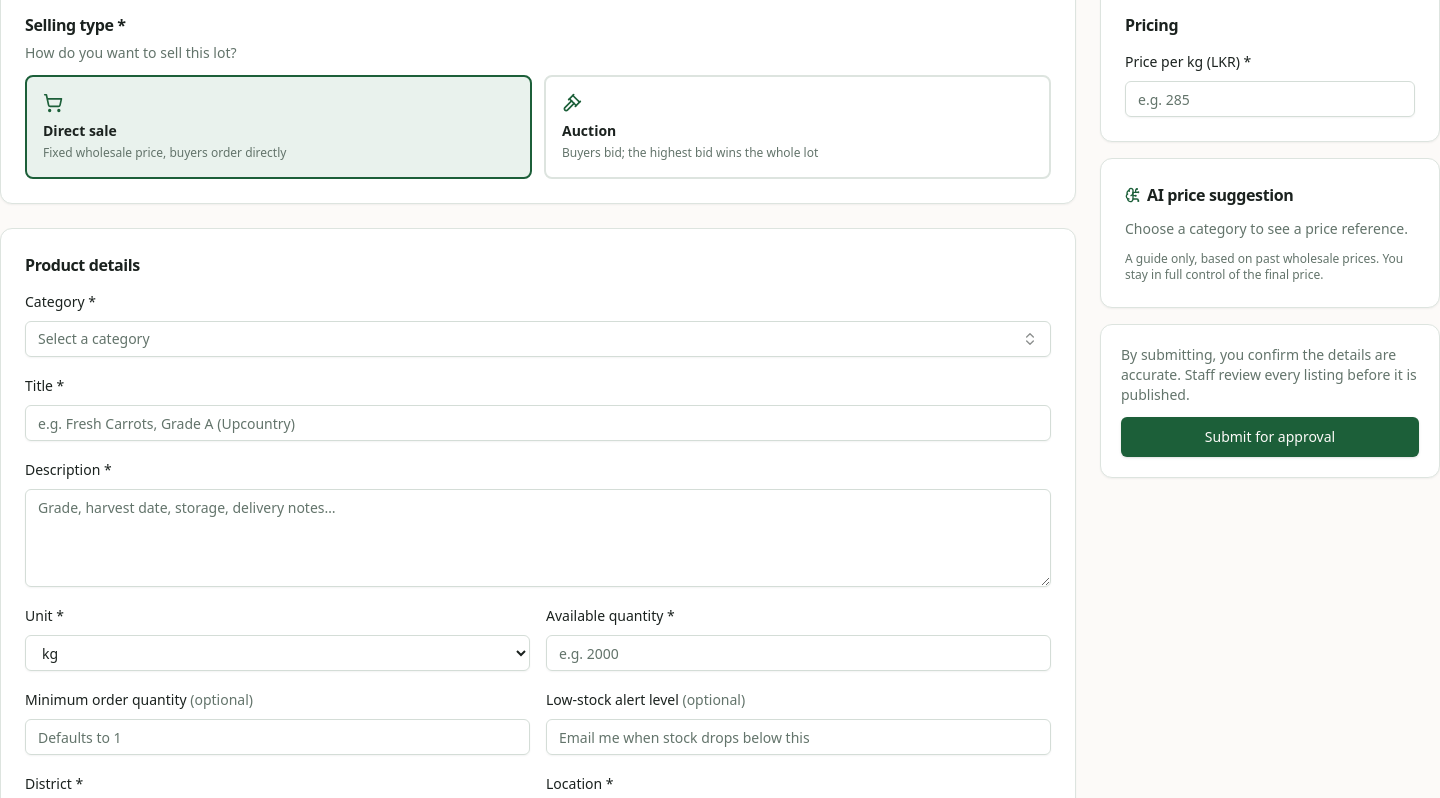
Test: ListingForm: creating › uses the suggestion as the minimum bid for an auction
What coordinates should you click on to do the following:
click the button "Auction Buyers bid; the highest bid wins the whole lot"
I would click on:
 (589, 130)
Its box is 544,75 -> 1051,179.
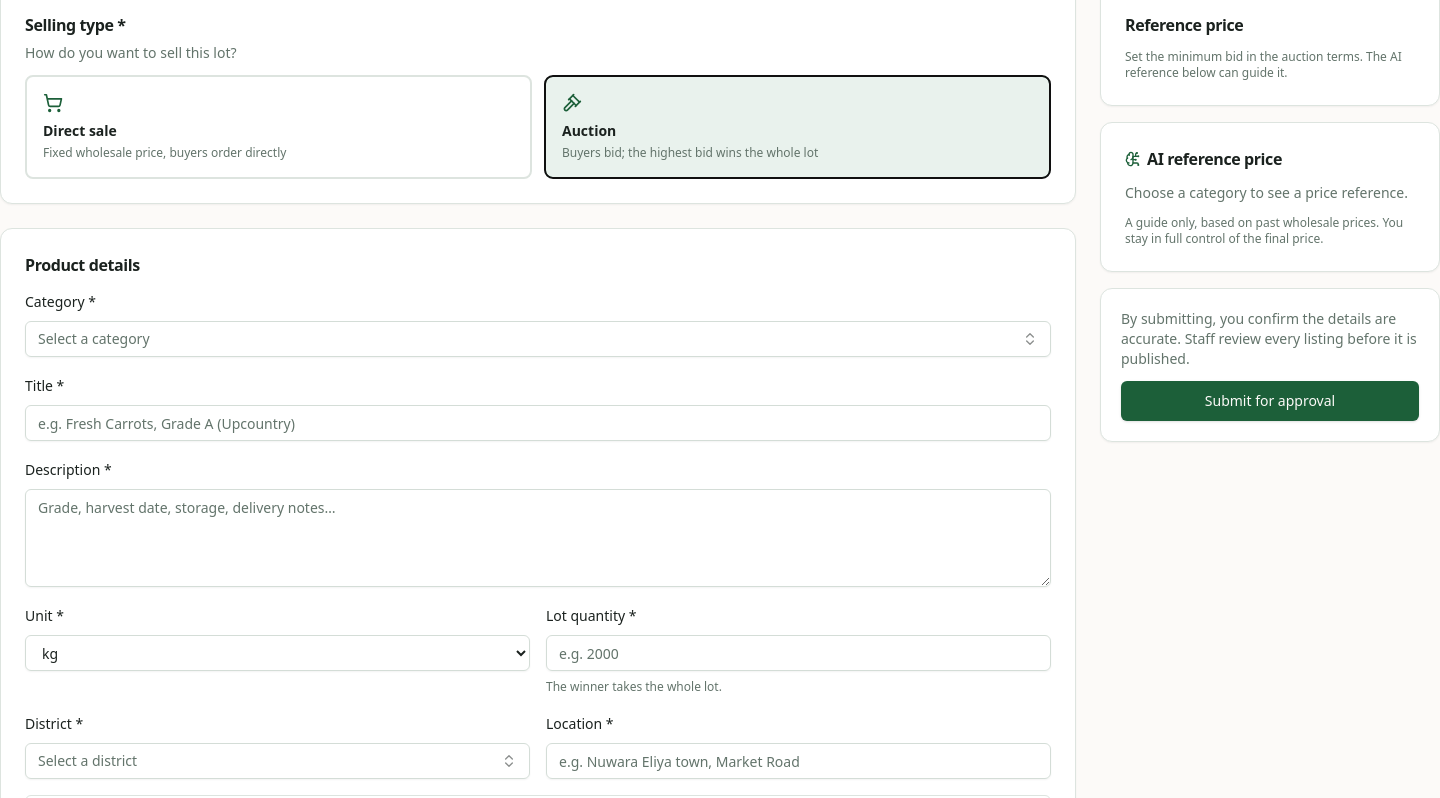
What coordinates should you click on to do the following:
click the dropdown labelled "Select a category"
I would click on:
 (94, 338)
Its box is 25,321 -> 1051,357.
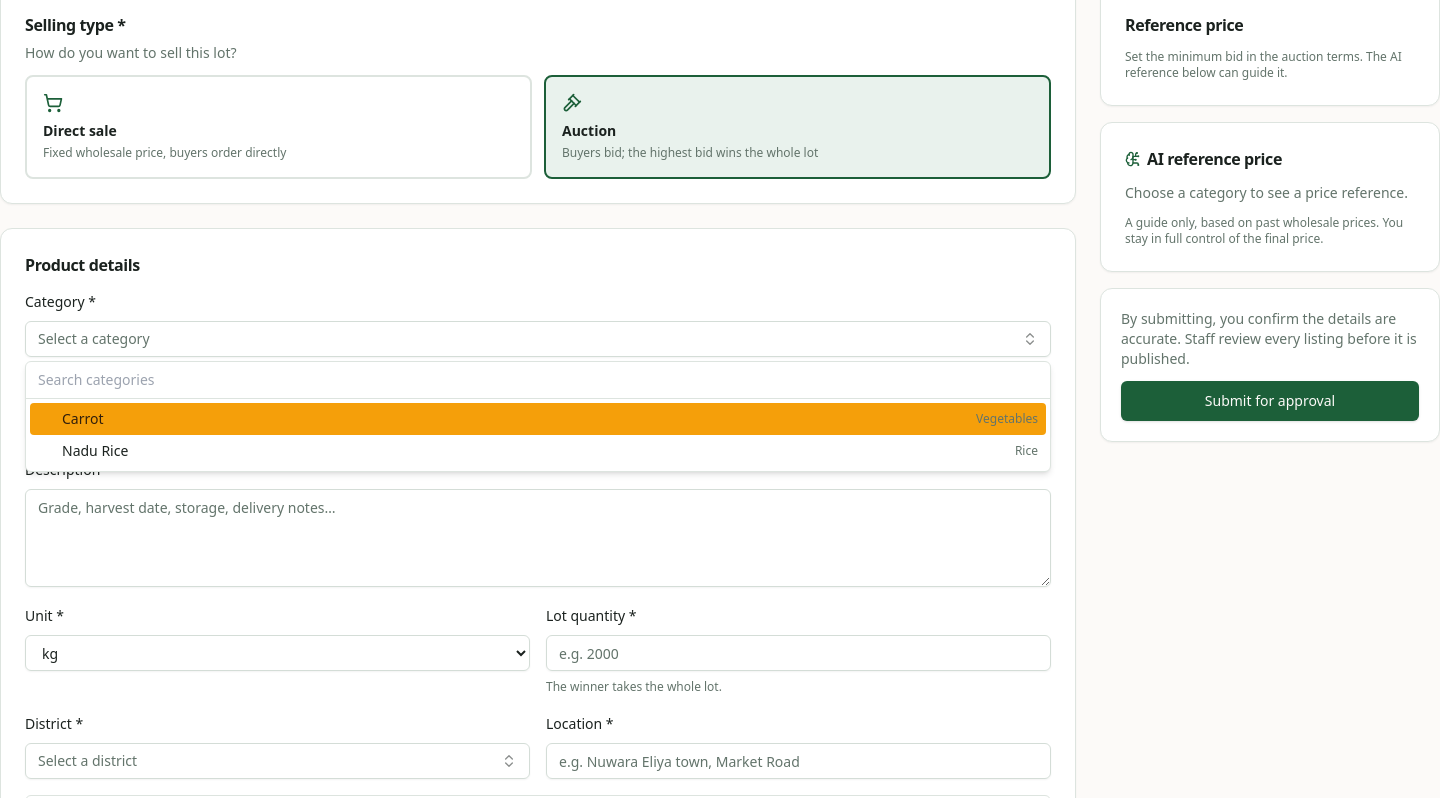
What coordinates should you click on to do the following:
click the option "Carrot Vegetables"
I would click on:
 (83, 418)
Its box is 30,403 -> 1046,435.
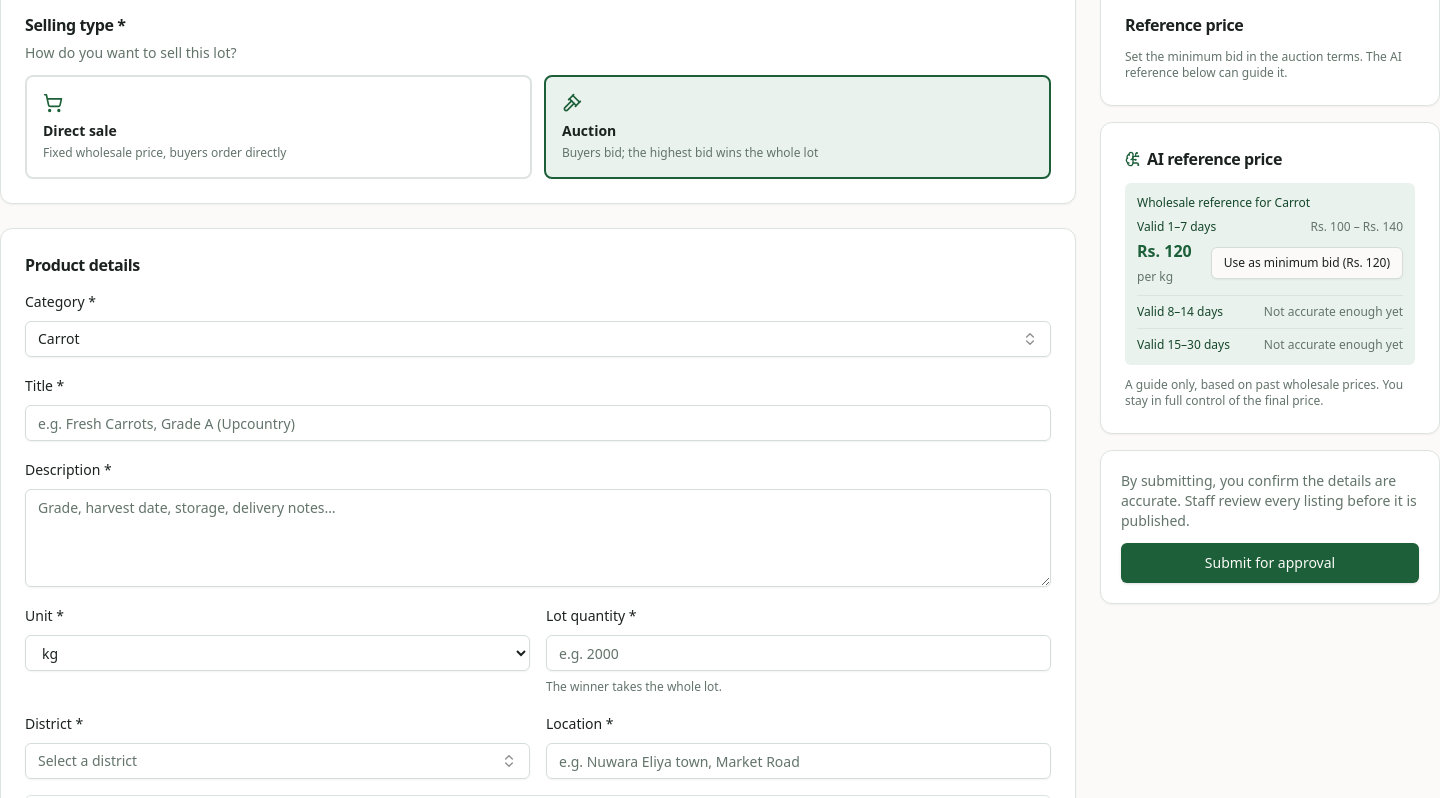
What coordinates should you click on to do the following:
click the button "Use as minimum bid (Rs. 120)"
I would click on:
 (1307, 263)
Its box is 1211,247 -> 1403,279.
(page scrolled)
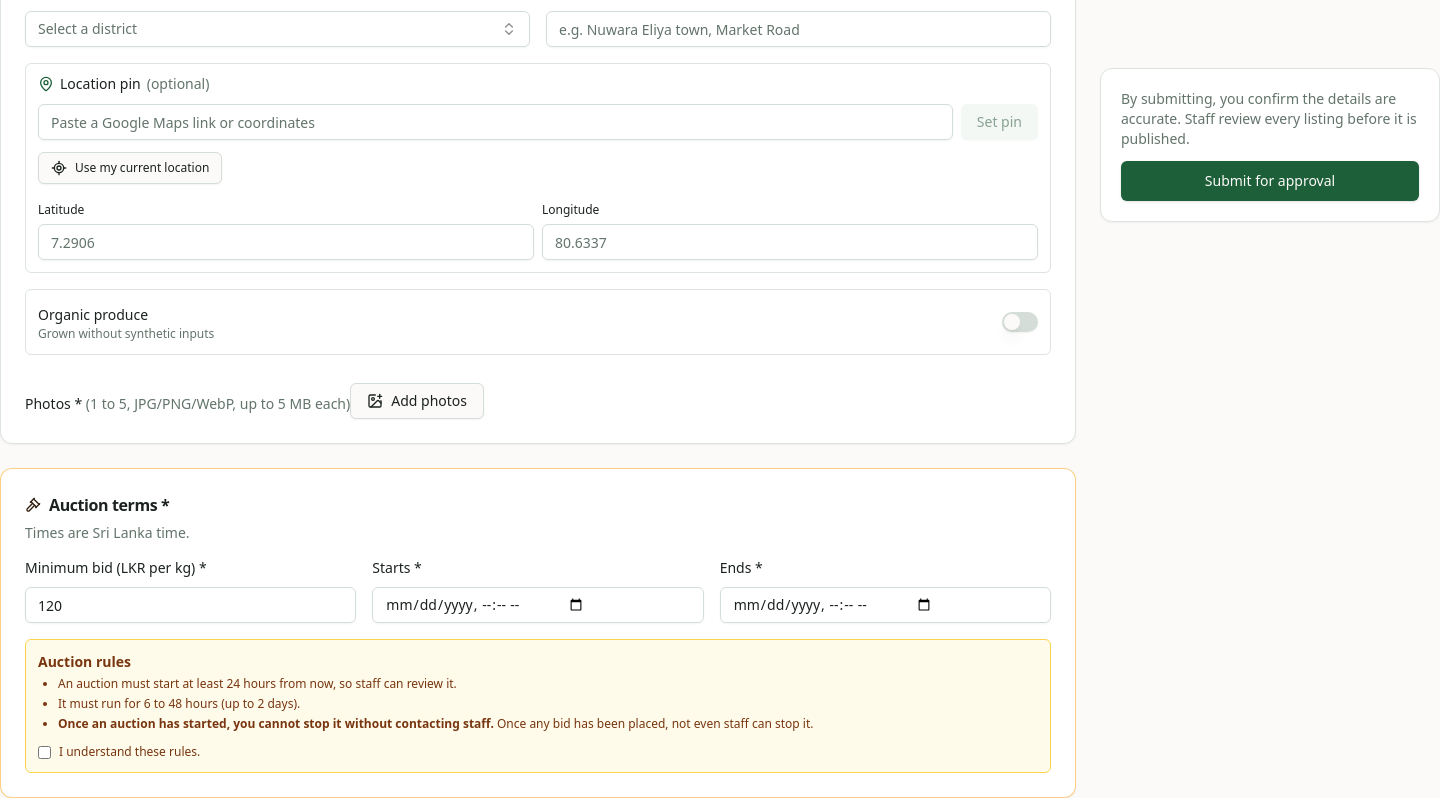
Now the number field labelled "Minimum bid (LKR per kg) *" holds "120", box 25,587 -> 356,623
